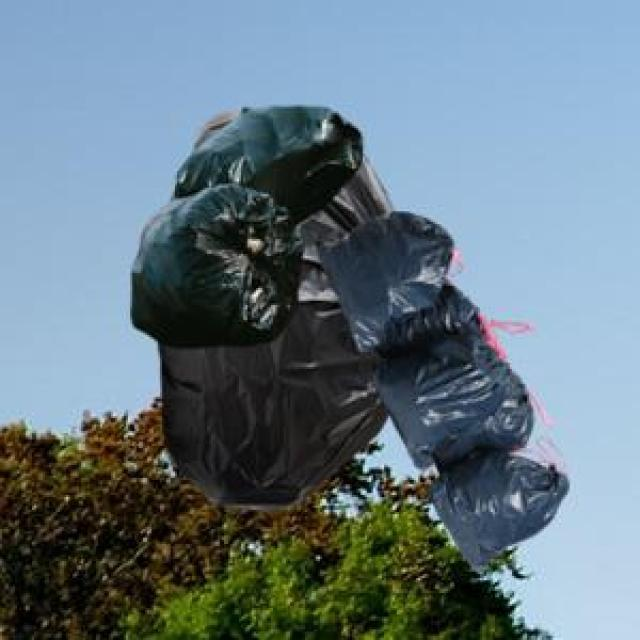Vinyl: (132, 108, 569, 564)
